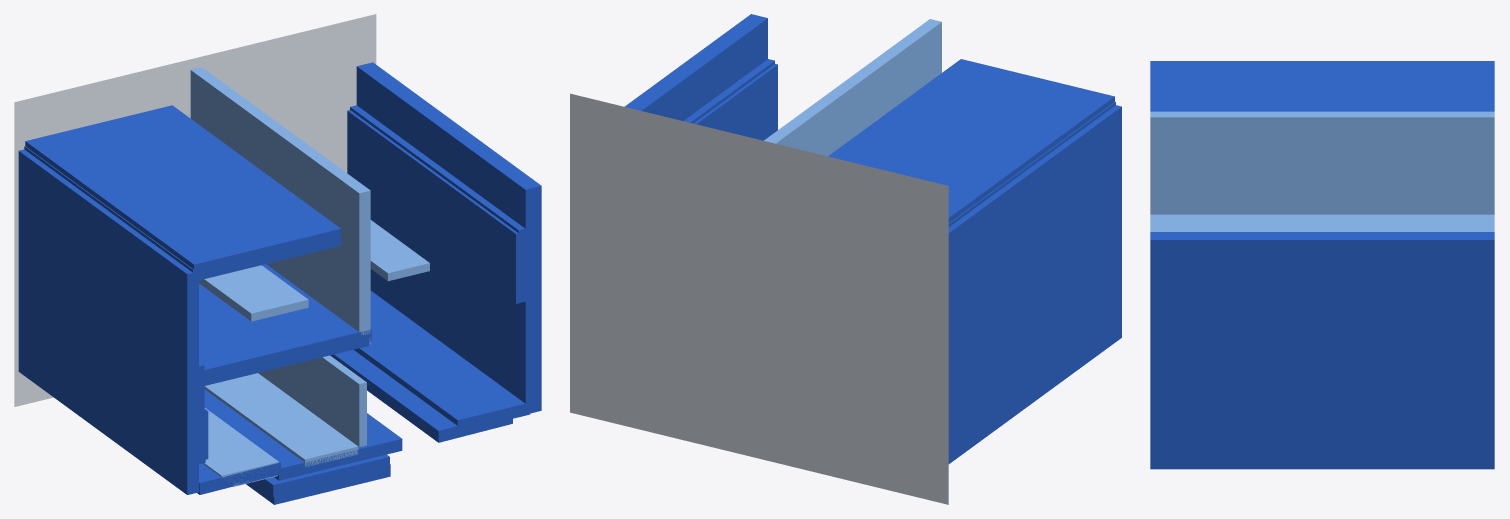
Rendered from 15d787d8-1a01-4d0f-b5e9-6616fbf9efec.obj.
The picture shows the model from 3 angles, left to right: view 1: azimuth 30°, elevation 25°; view 2: azimuth 150°, elevation 25°; view 3: azimuth 270°, elevation 25°; orthographic projection. The views are drawn at different scales.
Bounding box in the file's own units: 18.95 × 15.25 × 15.35.
